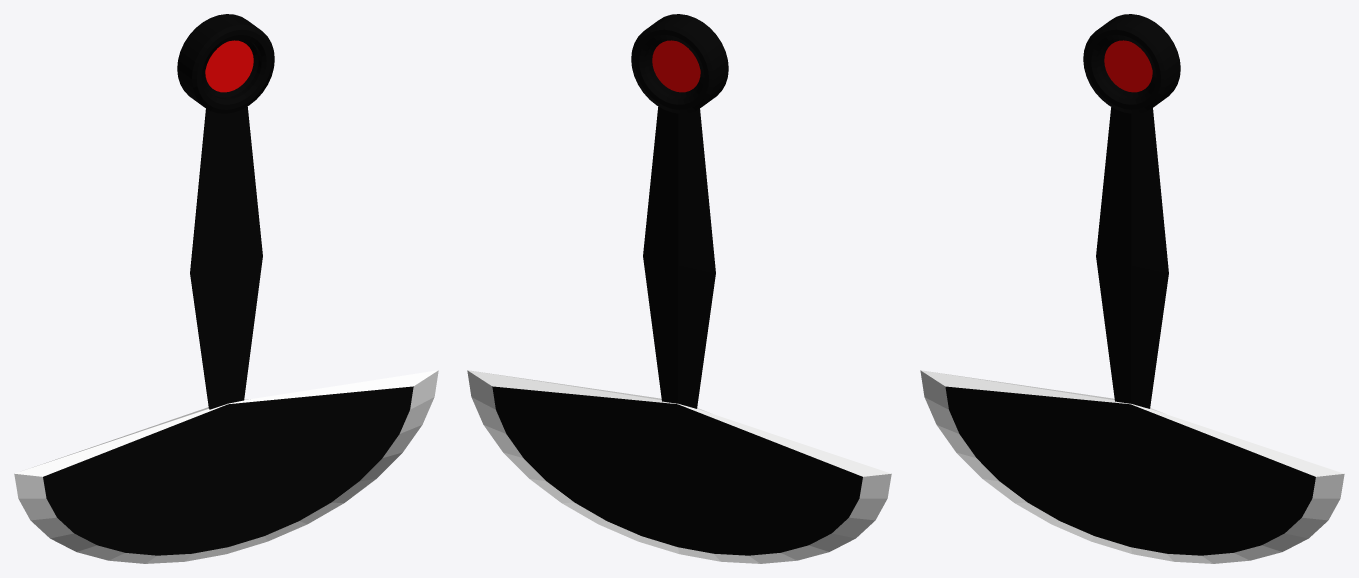
The model's file is trap_002.glb.
3 views of the same model, side by side, from view 1: azimuth 30°, elevation 25°; view 2: azimuth 150°, elevation 25°; view 3: azimuth 330°, elevation 25° (orthographic).
Parts seen in each view (by area): view 1: trap_002; view 2: trap_002; view 3: trap_002.
Part boxes in pixels (<box>): trap_002: <box>14,14,438,563</box>; trap_002: <box>467,14,891,563</box>; trap_002: <box>920,14,1344,563</box>.
Bounding box in the file's own units: 92.97 × 112 × 6.15.
